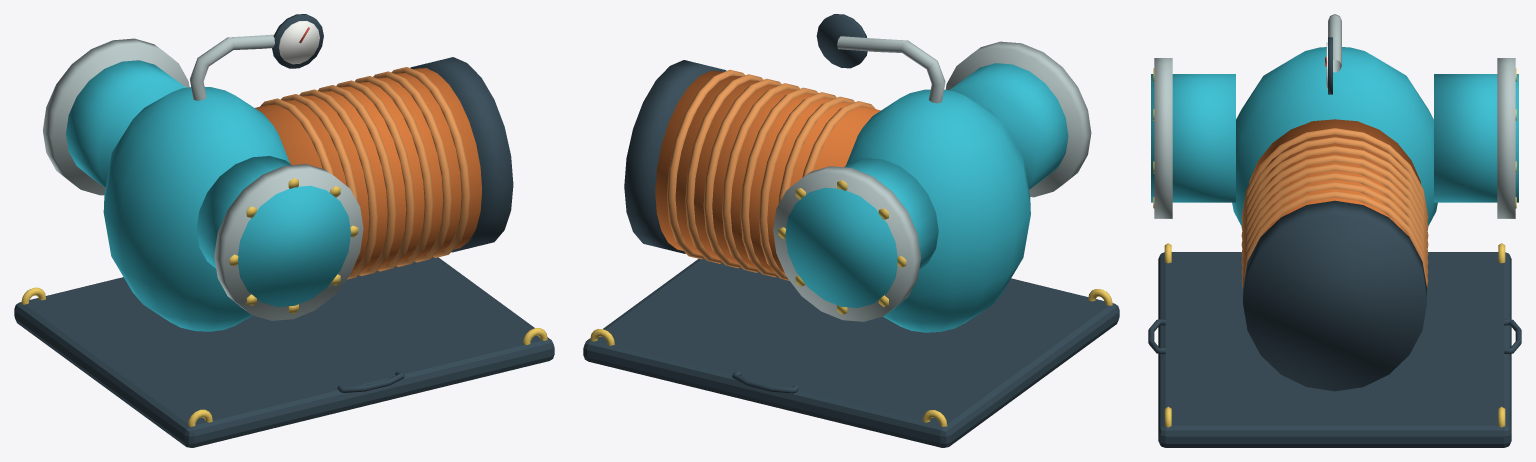
Rendered from pump-large.glb.
3 views of the same model, side by side, from view 1: azimuth 30°, elevation 25°; view 2: azimuth 150°, elevation 25°; view 3: azimuth 270°, elevation 25° (orthographic).
Visible parts, largest first — view 1: tyaga-pump-large-surface; view 2: tyaga-pump-large-surface; view 3: tyaga-pump-large-surface.
Part boxes in pixels (<box>): tyaga-pump-large-surface: <box>14,14,554,447</box>; tyaga-pump-large-surface: <box>583,14,1119,447</box>; tyaga-pump-large-surface: <box>1148,14,1521,447</box>.
Bounding box in the file's own units: 3.2 × 2.7 × 2.8.
